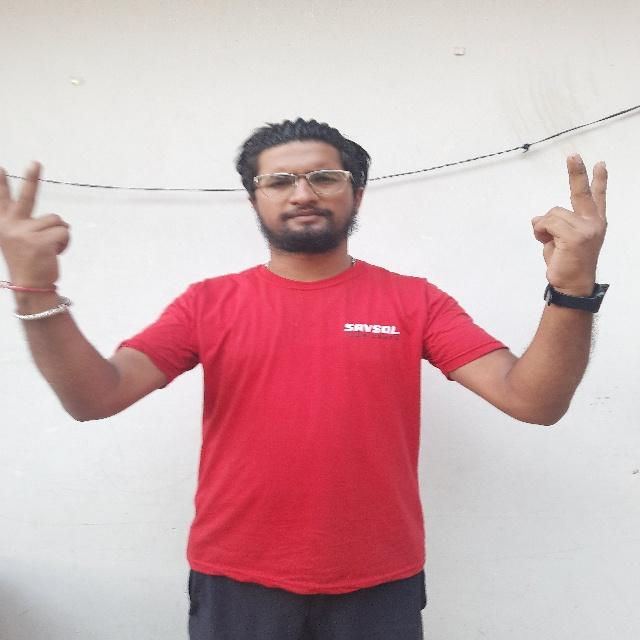Reversed Victory: (519, 143, 617, 309), (0, 156, 87, 324)
